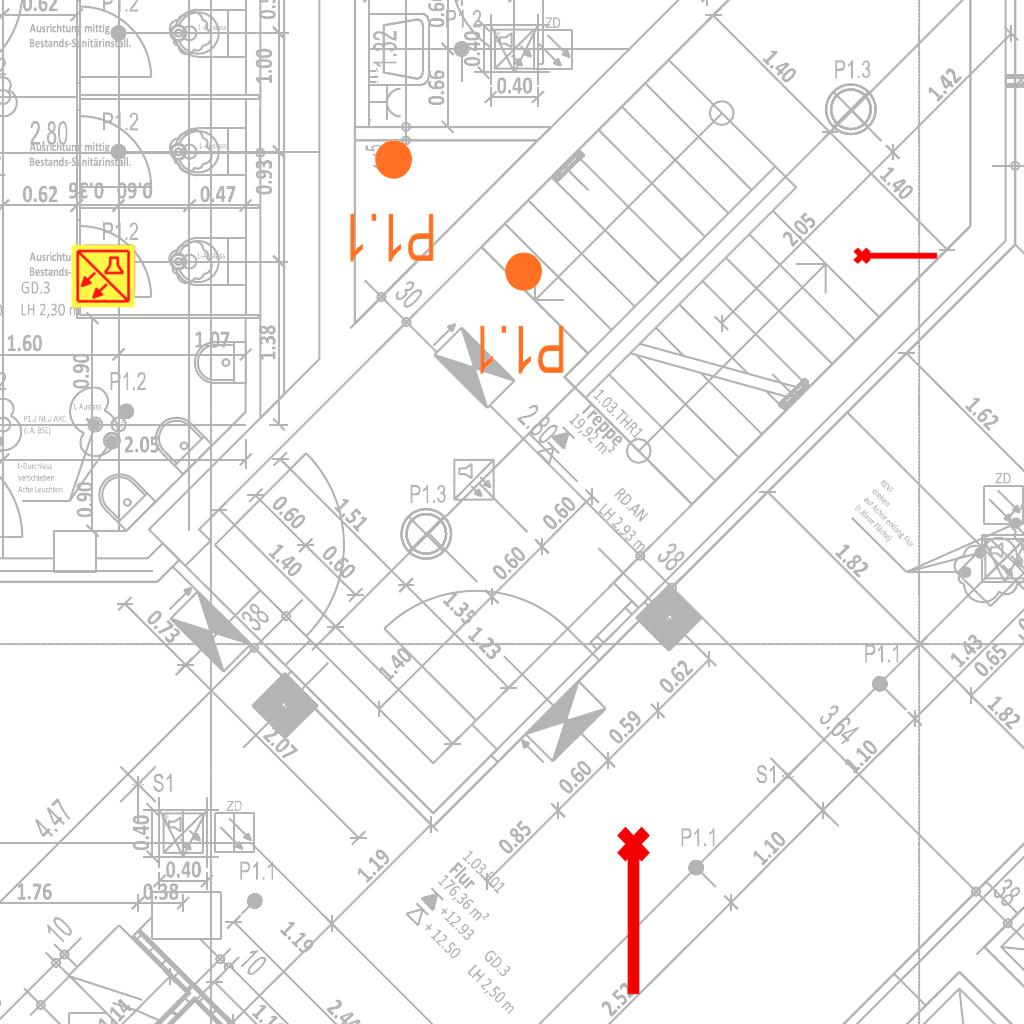ASR_Ansaugoeffnung: (613, 824, 659, 1000), (852, 243, 940, 266)
Downlight_LED_Einbauleuchten_Flur: (344, 137, 437, 265), (474, 249, 567, 377)
OKW_Multisensormelder_(Kombination_optischer_Rauch-Kahlenmonoxid_Waerme-Melder): (70, 243, 136, 309)
